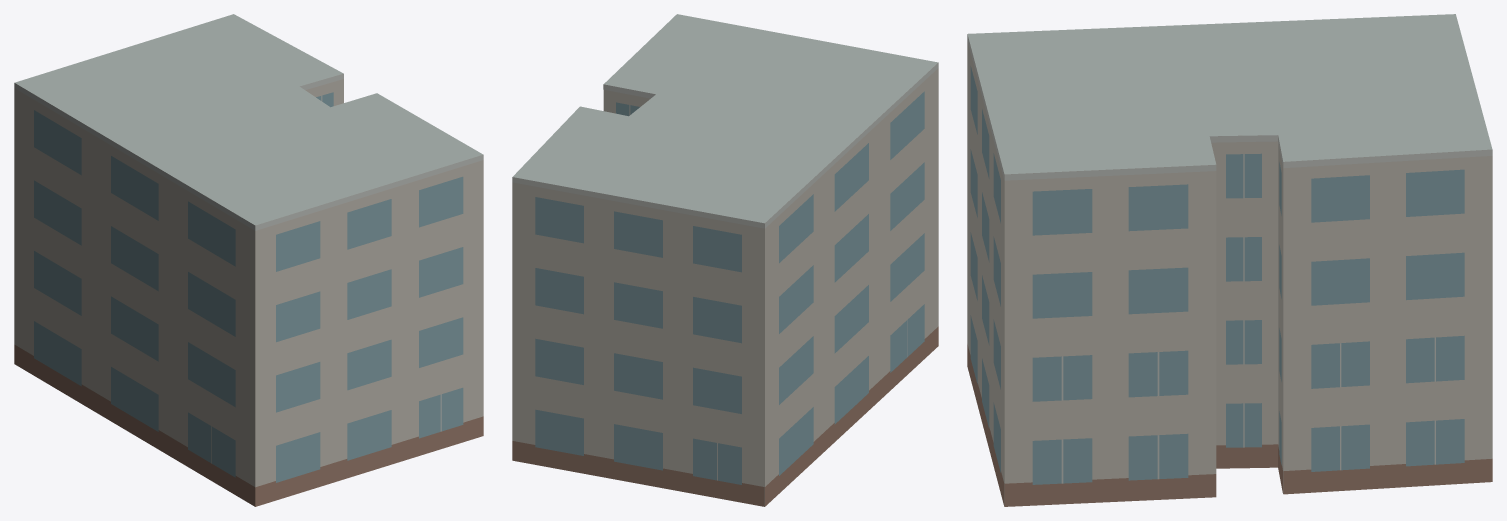
The model's file is survey-upis-32743192.glb.
3 views of the same model, side by side, from view 1: azimuth 30°, elevation 25°; view 2: azimuth 150°, elevation 25°; view 3: azimuth 270°, elevation 25° (orthographic). The views are drawn at different scales.
Parts seen in each view (by area): view 1: survey-upis-32743192.tmp; view 2: survey-upis-32743192.tmp; view 3: survey-upis-32743192.tmp.
Part boxes in pixels (box(x1,y1,x2,y2)): survey-upis-32743192.tmp: box(14, 14, 483, 506); survey-upis-32743192.tmp: box(512, 14, 938, 506); survey-upis-32743192.tmp: box(967, 14, 1492, 506).
Bounding box in the file's own units: 13.25 × 12.8 × 18.33.
